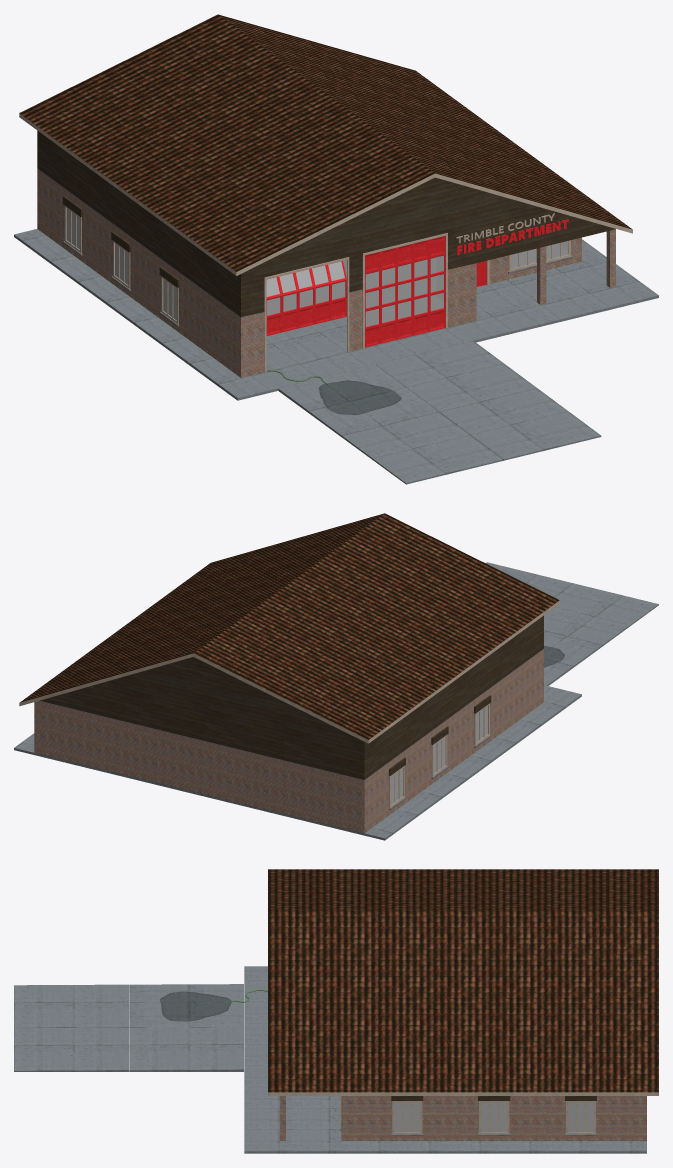
Rendered from fire-s1.glb.
3 renders of one model, top to bottom at view 1: azimuth 30°, elevation 25°; view 2: azimuth 150°, elevation 25°; view 3: azimuth 270°, elevation 25°, orthographic. The views are drawn at different scales.
Parts seen in each view (by area): view 1: Material2 (×7), Material3; view 2: Material2 (×6); view 3: Material2 (×6), Material3.
Part boxes in pixels (x1,y1,x2,y2): Material2 (×7): [14, 14, 658, 484]; Material3: [318, 380, 401, 415]; Material2 (×6): [14, 513, 658, 840]; Material2 (×6): [14, 869, 658, 1153]; Material3: [160, 991, 231, 1021].
Size of the model in its own units: 872 by 329 by 1285.
13 materials, 13 textured.
